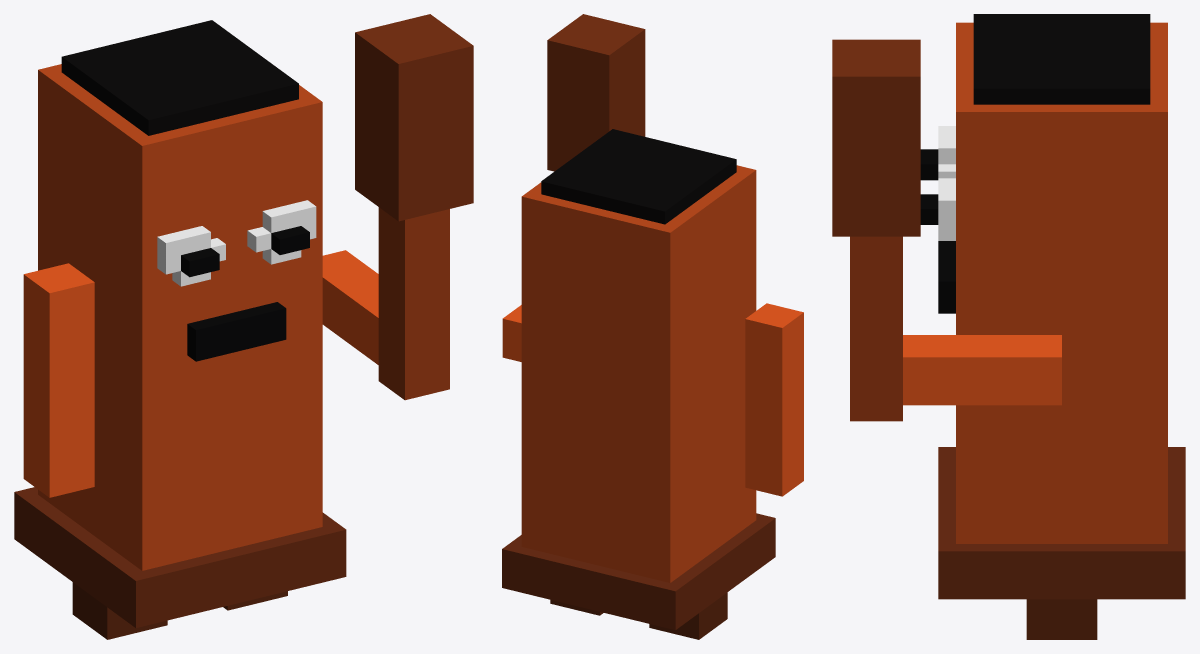
The model's file is pop_pop_sahur.glb.
3 views of the same model, side by side, from view 1: azimuth 30°, elevation 25°; view 2: azimuth 150°, elevation 25°; view 3: azimuth 270°, elevation 25° (orthographic). The views are drawn at different scales.
Parts seen in each view (by area): view 1: brainrot; view 2: brainrot; view 3: brainrot.
Part boxes in pixels (left/top/right/bottom): brainrot: left=14, top=14, right=473, bottom=639; brainrot: left=502, top=14, right=803, bottom=639; brainrot: left=832, top=14, right=1185, bottom=639.
Size of the model in its own units: 3.03 by 5 by 2.63.
Materials: 1 (1 with a texture image).
